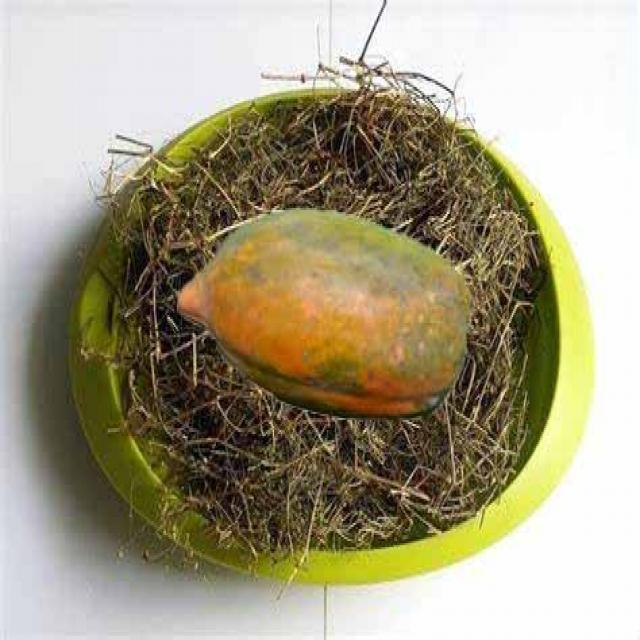Pepaya rippen: (170, 210, 474, 434)
